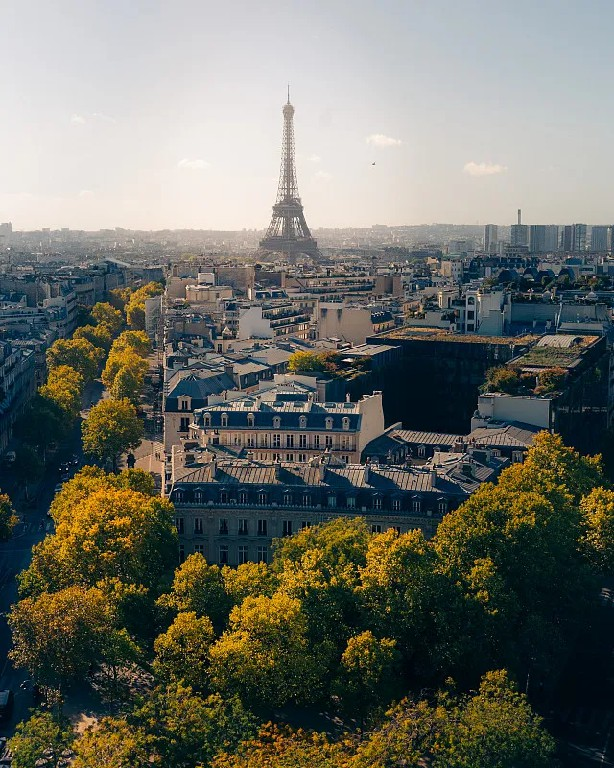Eiffel: (255, 83, 323, 264)
